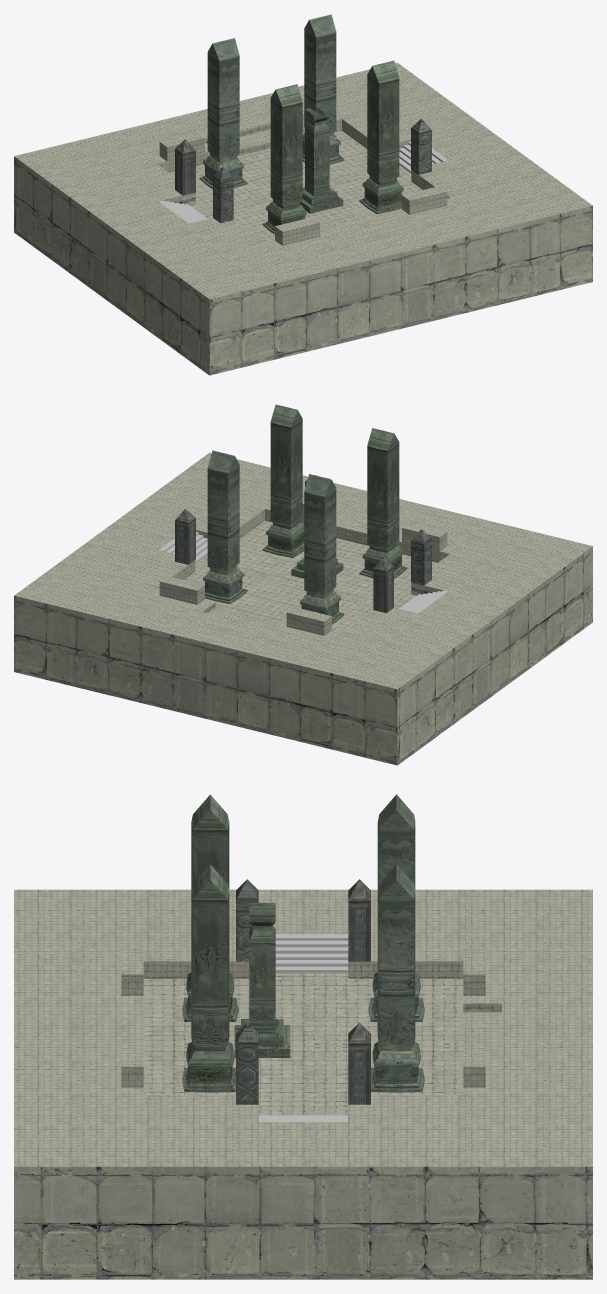
File: SM_TheSamePlace_05_Block_00.fbx
3 views of the same model, one above another, from view 1: azimuth 30°, elevation 25°; view 2: azimuth 150°, elevation 25°; view 3: azimuth 270°, elevation 25° (orthographic). The views are drawn at different scales.
Parts seen in each view (by area): view 1: SM_TheSamePlace_05_Block_00, SM_TheSamePlace_05_Block_00.002, SM_TheSamePlace_05_Block_00.003, SM_TheSamePlace_05_Block_00.001; view 2: SM_TheSamePlace_05_Block_00, SM_TheSamePlace_05_Block_00.002, SM_TheSamePlace_05_Block_00.003; view 3: SM_TheSamePlace_05_Block_00, SM_TheSamePlace_05_Block_00.002, SM_TheSamePlace_05_Block_00.003, SM_TheSamePlace_05_Block_00.001.
Boxes of the visible parts, left/top/right/bottom form: SM_TheSamePlace_05_Block_00: left=14, top=14, right=592, bottom=299; SM_TheSamePlace_05_Block_00.002: left=14, top=156, right=592, bottom=375; SM_TheSamePlace_05_Block_00.003: left=170, top=131, right=422, bottom=242; SM_TheSamePlace_05_Block_00.001: left=300, top=105, right=343, bottom=213; SM_TheSamePlace_05_Block_00: left=14, top=404, right=592, bottom=688; SM_TheSamePlace_05_Block_00.002: left=14, top=546, right=592, bottom=765; SM_TheSamePlace_05_Block_00.003: left=184, top=521, right=436, bottom=632; SM_TheSamePlace_05_Block_00: left=14, top=794, right=592, bottom=1166; SM_TheSamePlace_05_Block_00.002: left=14, top=1166, right=592, bottom=1279; SM_TheSamePlace_05_Block_00.003: left=143, top=973, right=463, bottom=1115; SM_TheSamePlace_05_Block_00.001: left=234, top=903, right=290, bottom=1057.
Size of what is drawn, in the model's own units: 5084 by 2601 by 4490.
